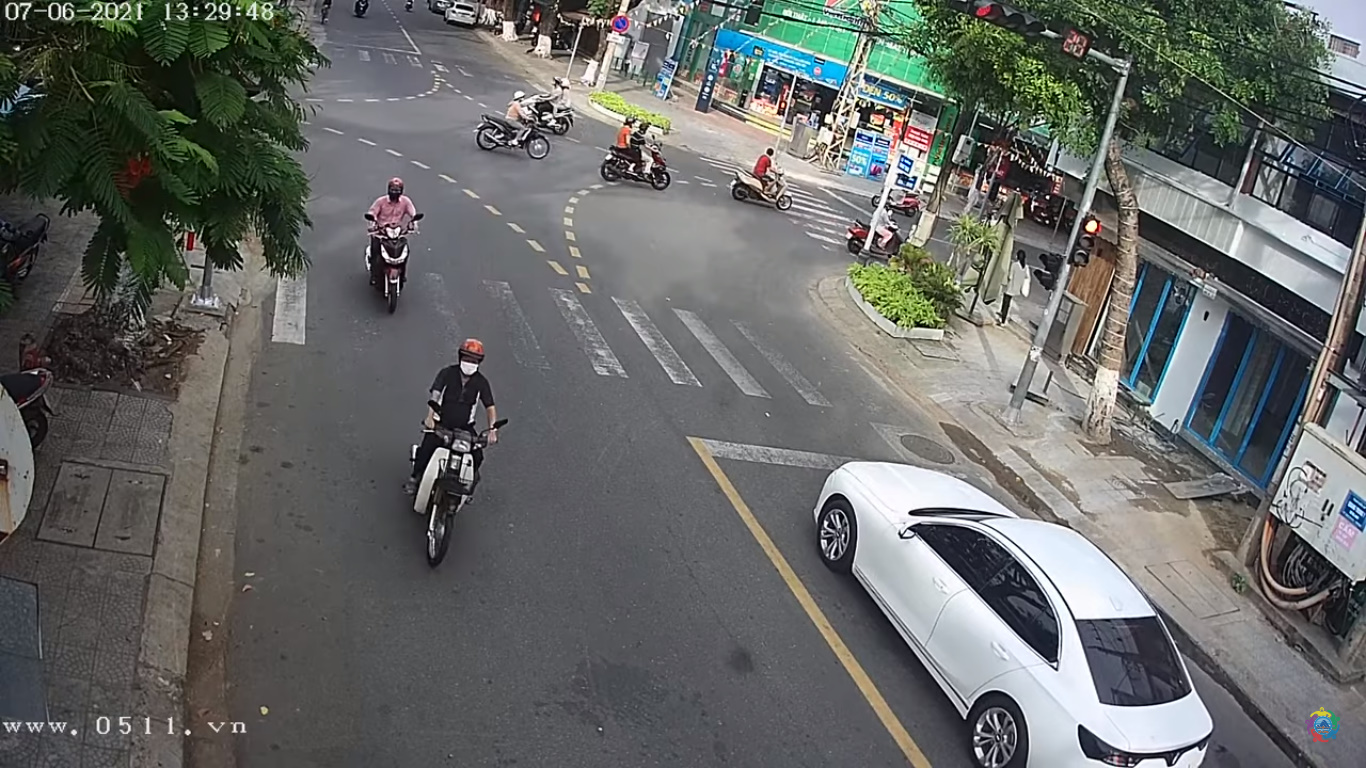motorbike: (410, 342, 498, 561), (363, 176, 426, 311)
